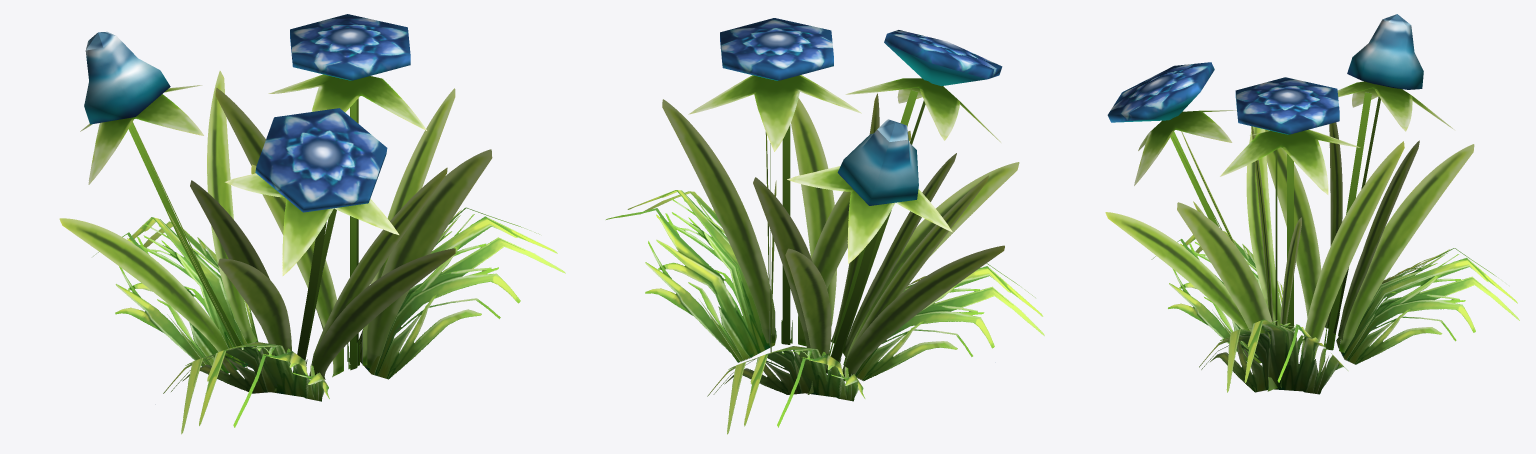
The model's file is FlowerBush.FBX.
3 renders of one model, left to right at view 1: azimuth 30°, elevation 25°; view 2: azimuth 150°, elevation 25°; view 3: azimuth 270°, elevation 25°, orthographic. The views are drawn at different scales.
Visible parts, largest first — view 1: FlowerBush; view 2: FlowerBush; view 3: FlowerBush.
Boxes of the visible parts, box(x1,y1,x2,y2) form: FlowerBush: box(59, 14, 565, 434); FlowerBush: box(606, 18, 1044, 434); FlowerBush: box(1105, 14, 1519, 394).
Bounding box in the file's own units: 172 × 119 × 162.
